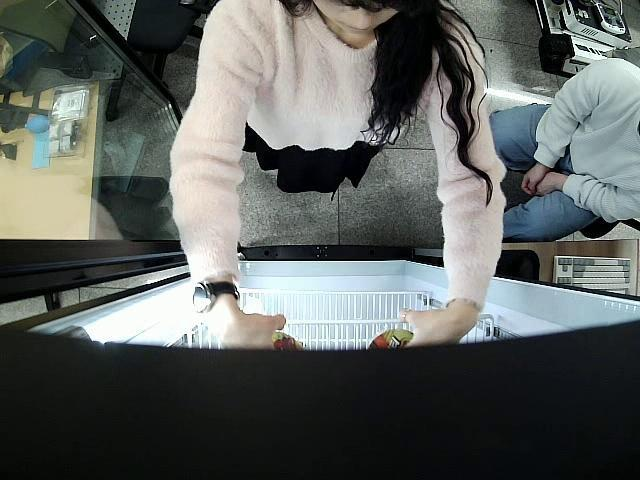04_chapagetti_S: (366, 328, 414, 352)
